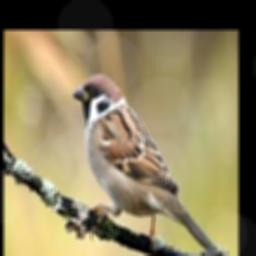Sparrow: (72, 74, 215, 256)
